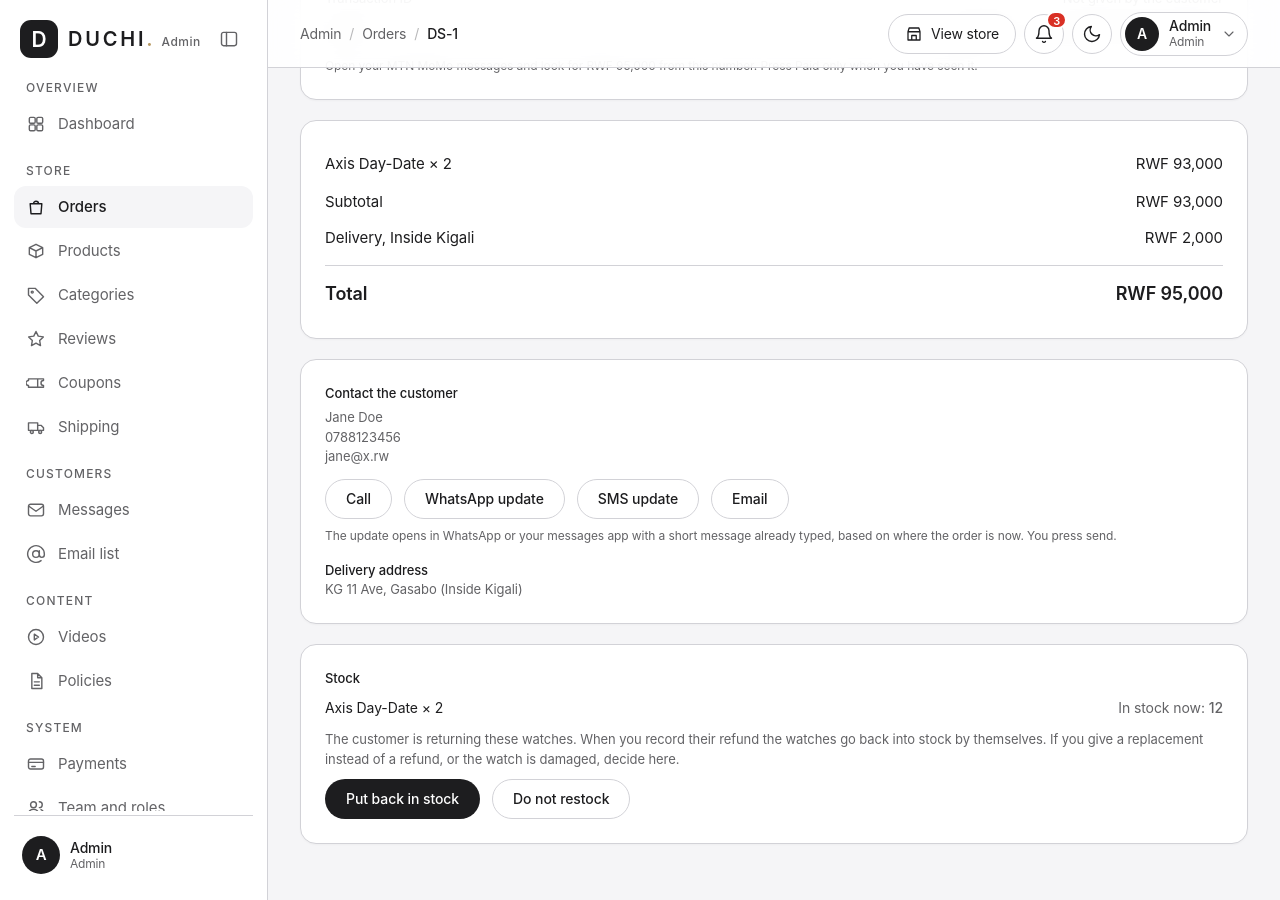
Scenario: the admin decides what happens to a returned watch › 'Do not restock' keeps a damaged watch out of the stock
(page scrolled)
Click the button "Do not restock". click: click(561, 799)
box: [492,779,630,819]
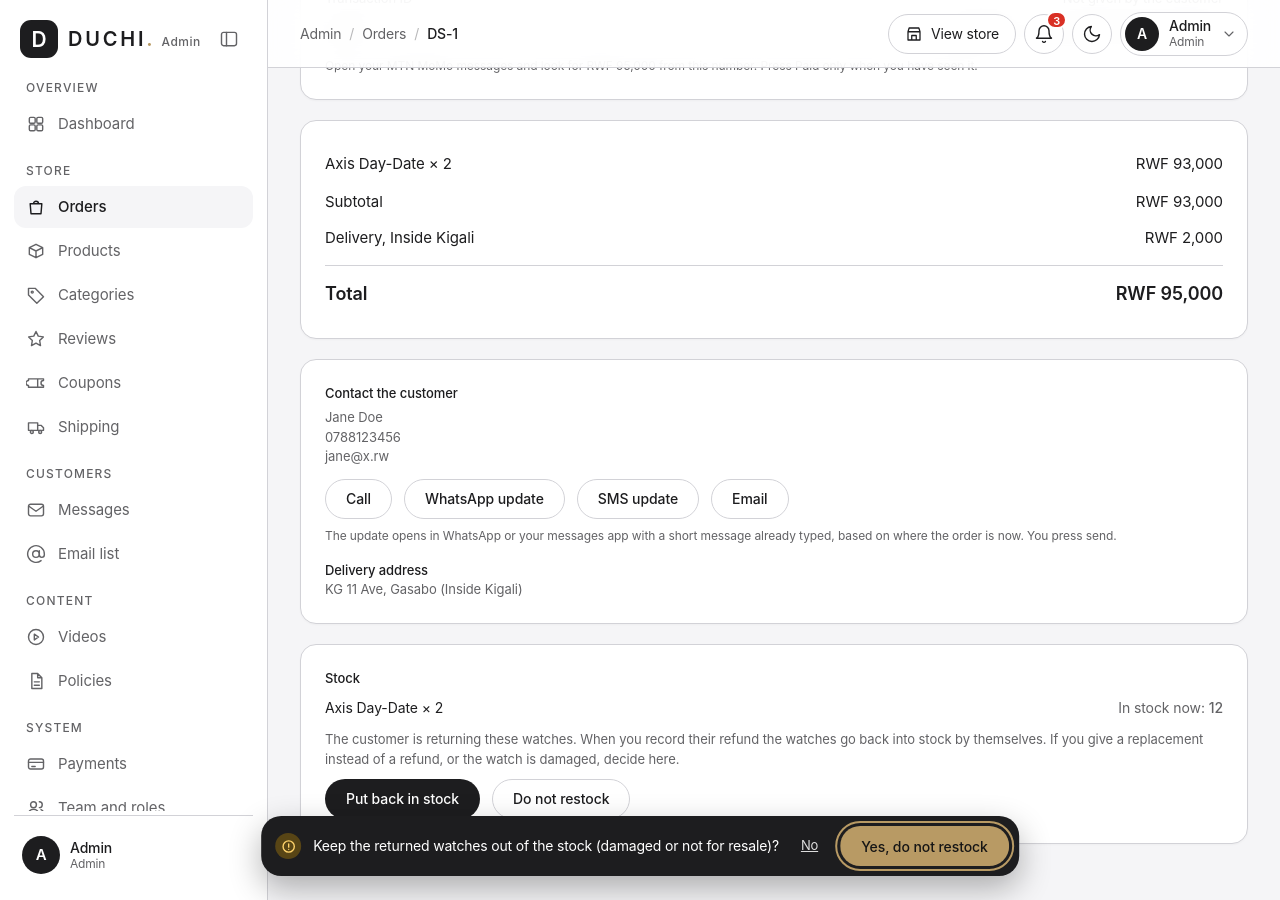
Click the button "Yes, do not restock". click: click(925, 846)
box: [840,826,1009,866]
(page scrolled)
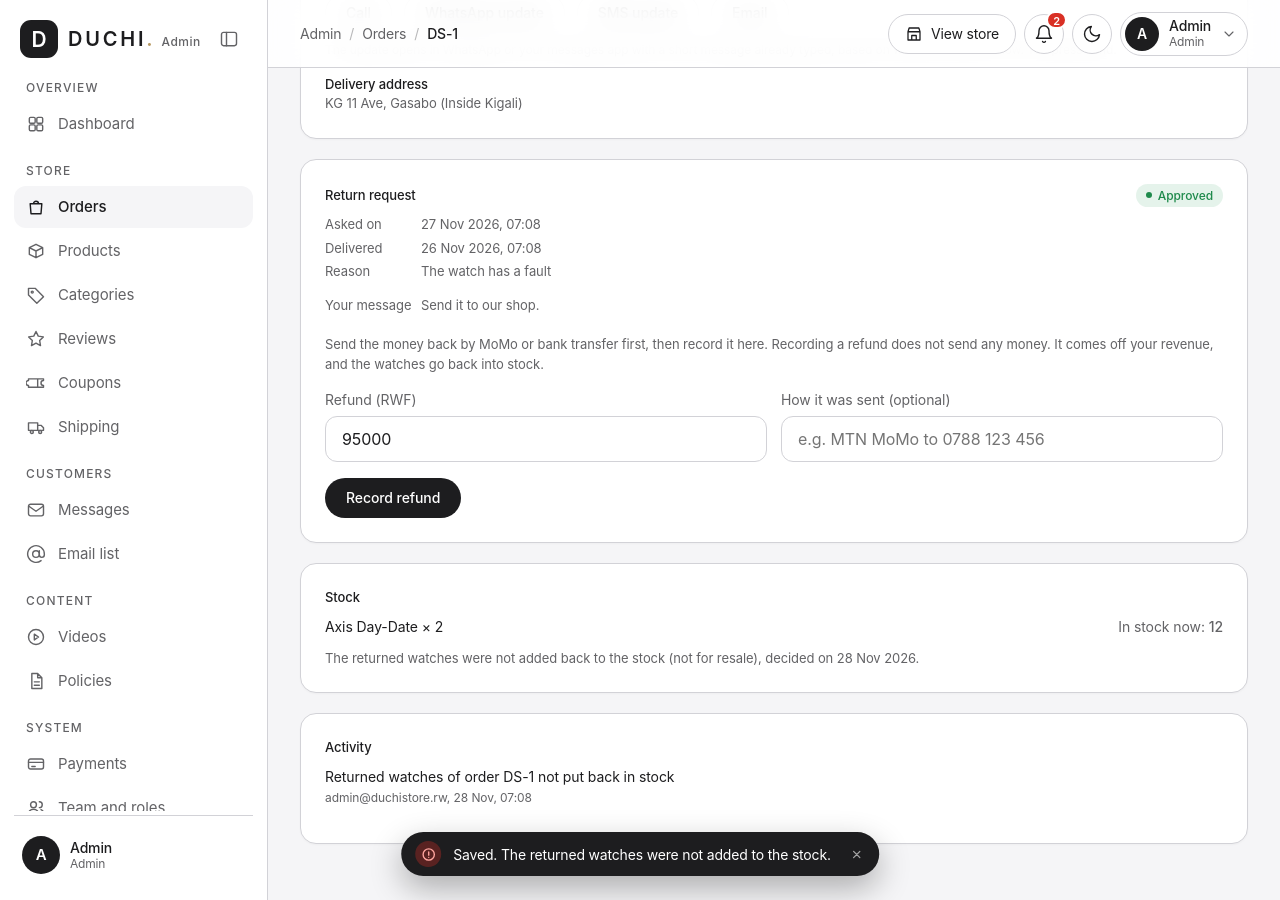
Check: the text "were not added back to the stock" is shown, box [325,650,837,666]
